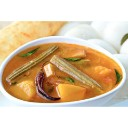idly: (66, 23, 101, 39), (109, 23, 127, 51)
